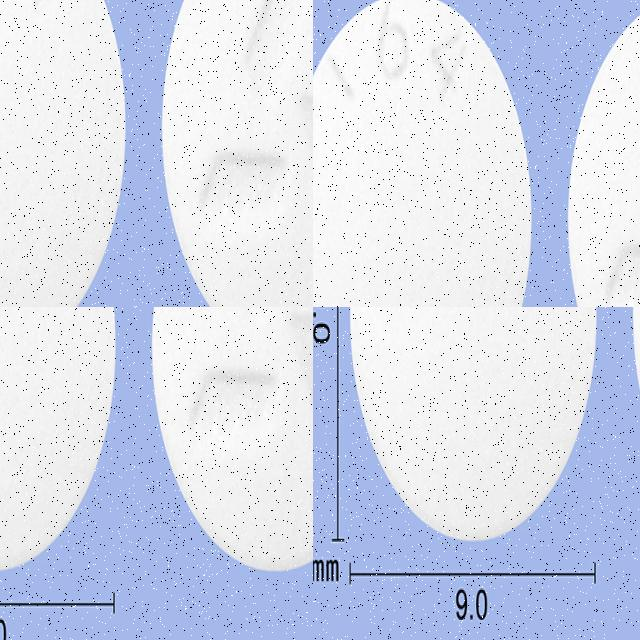Fixima: (313, 220, 618, 307), (514, 0, 640, 205)
Retos Tab: (0, 102, 170, 307), (149, 0, 313, 132)
Samsung Clarithromycin Tab: (347, 307, 599, 538)
Suprax Cap- Dong-A: (0, 353, 209, 559)
